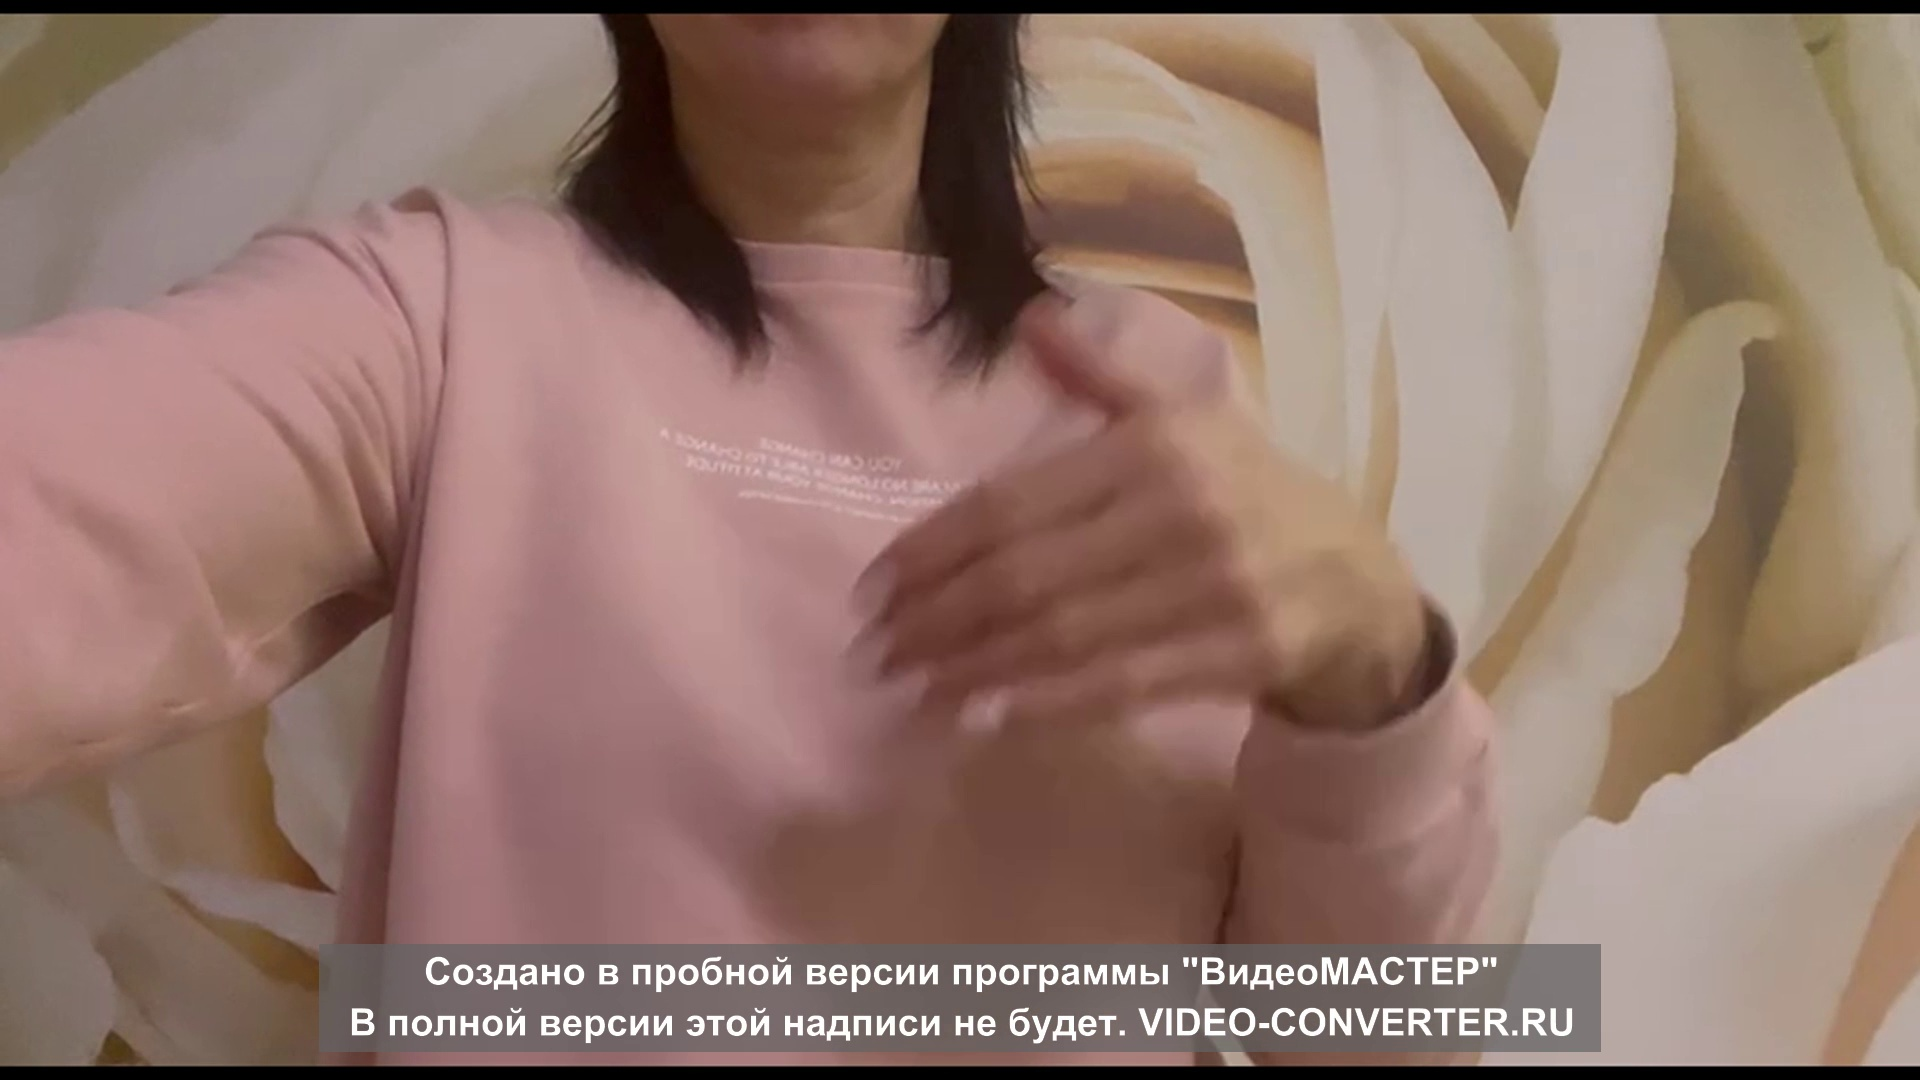Кисть: (835, 310, 1362, 744)
